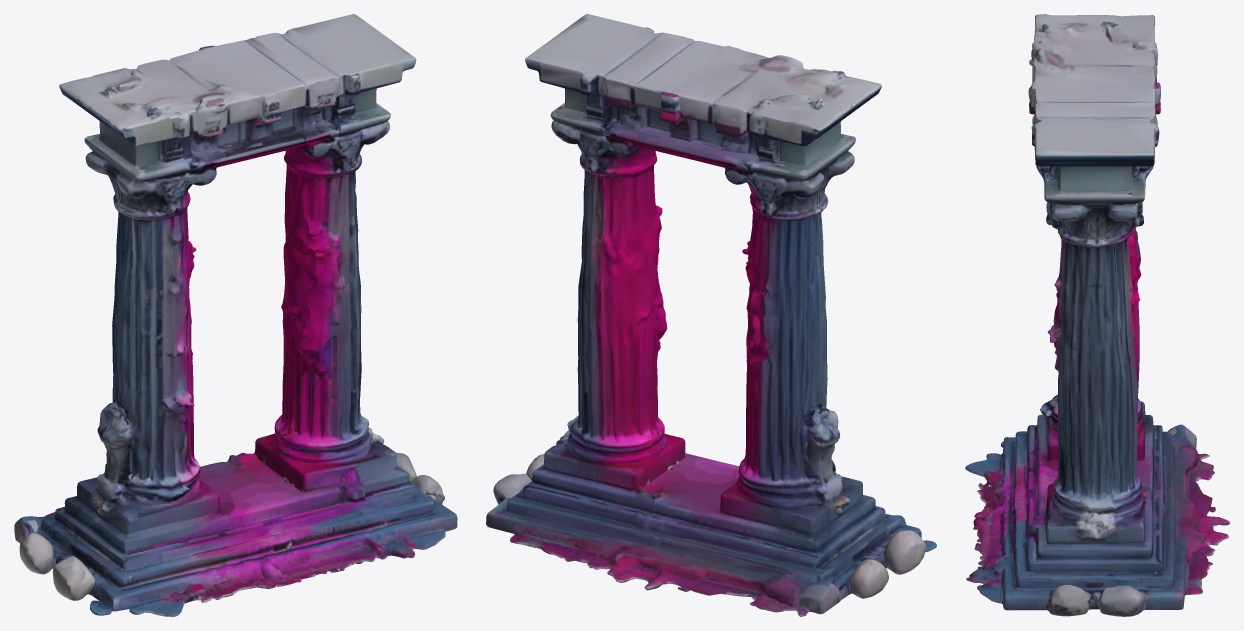
Rendered from support-column-generated-2026-05-17T18-28-00-874Z.medium.glb.
3 views of the same model, side by side, from view 1: azimuth 30°, elevation 25°; view 2: azimuth 150°, elevation 25°; view 3: azimuth 270°, elevation 25° (orthographic). The views are drawn at different scales.
Visible parts, largest first — view 1: temp_mesh.ply; view 2: temp_mesh.ply; view 3: temp_mesh.ply.
Boxes of the visible parts, x1,y1,x2,y2 form: temp_mesh.ply: (14,14,457,616); temp_mesh.ply: (486,14,936,616); temp_mesh.ply: (965,14,1229,616).
Size of the model in its own units: 1.69 by 1.97 by 1.04.
1 material, 1 textured.
